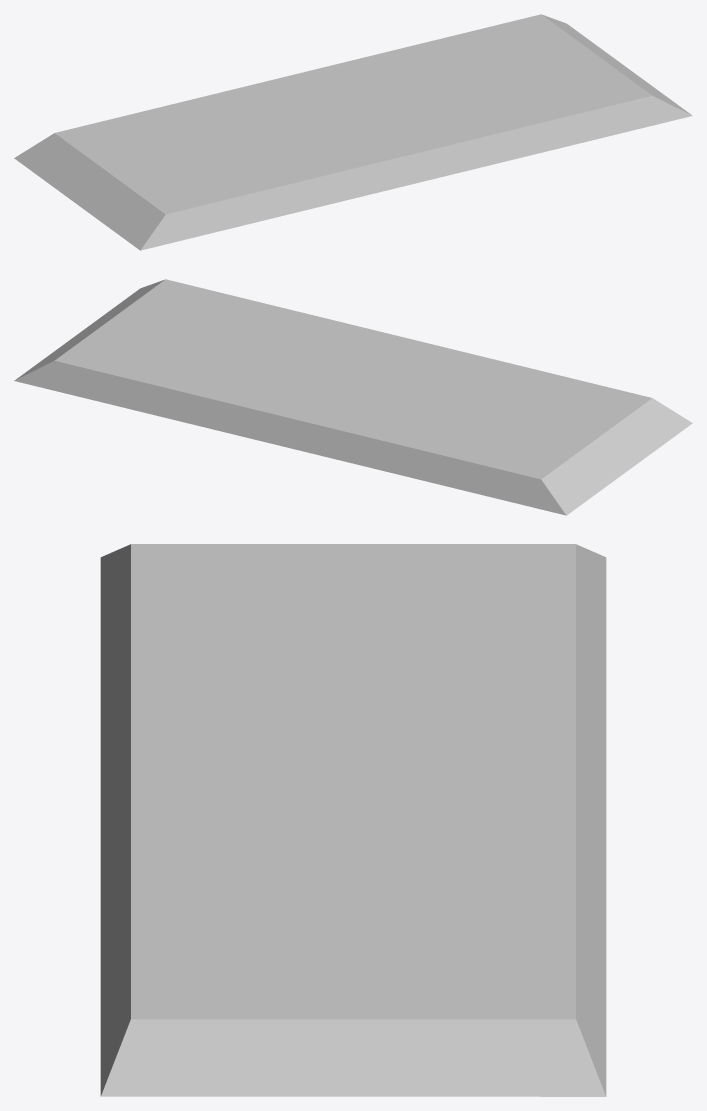
File: Itr_Wardrobe1_Base_06.FBX
The picture shows the model from 3 angles, top to bottom: view 1: azimuth 30°, elevation 25°; view 2: azimuth 150°, elevation 25°; view 3: azimuth 270°, elevation 25°; orthographic projection. The views are drawn at different scales.
Visible parts, largest first — view 1: Itr_Wardrobe1_Base_06; view 2: Itr_Wardrobe1_Base_06; view 3: Itr_Wardrobe1_Base_06.
Boxes of the visible parts, <box> form: Itr_Wardrobe1_Base_06: <box>14,14,692,250</box>; Itr_Wardrobe1_Base_06: <box>14,279,692,515</box>; Itr_Wardrobe1_Base_06: <box>100,544,606,1096</box>.
Size of the model in its own units: 50.57 by 1.99 by 20.02.
